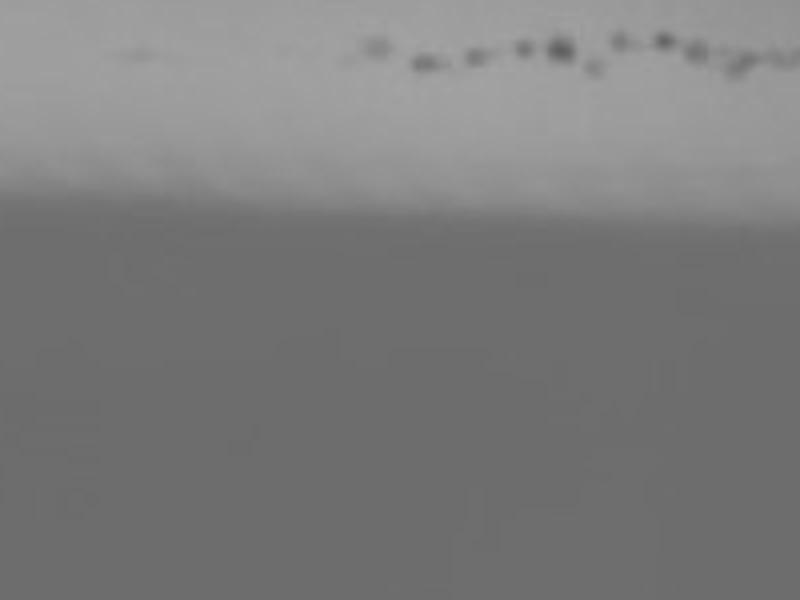defect: (720, 45, 755, 81), (357, 30, 392, 58), (546, 35, 577, 66), (412, 51, 442, 75), (462, 45, 495, 66), (682, 41, 710, 63), (122, 43, 151, 64), (509, 37, 533, 59), (766, 48, 793, 66), (610, 32, 632, 54), (581, 60, 604, 78), (653, 32, 674, 50)
